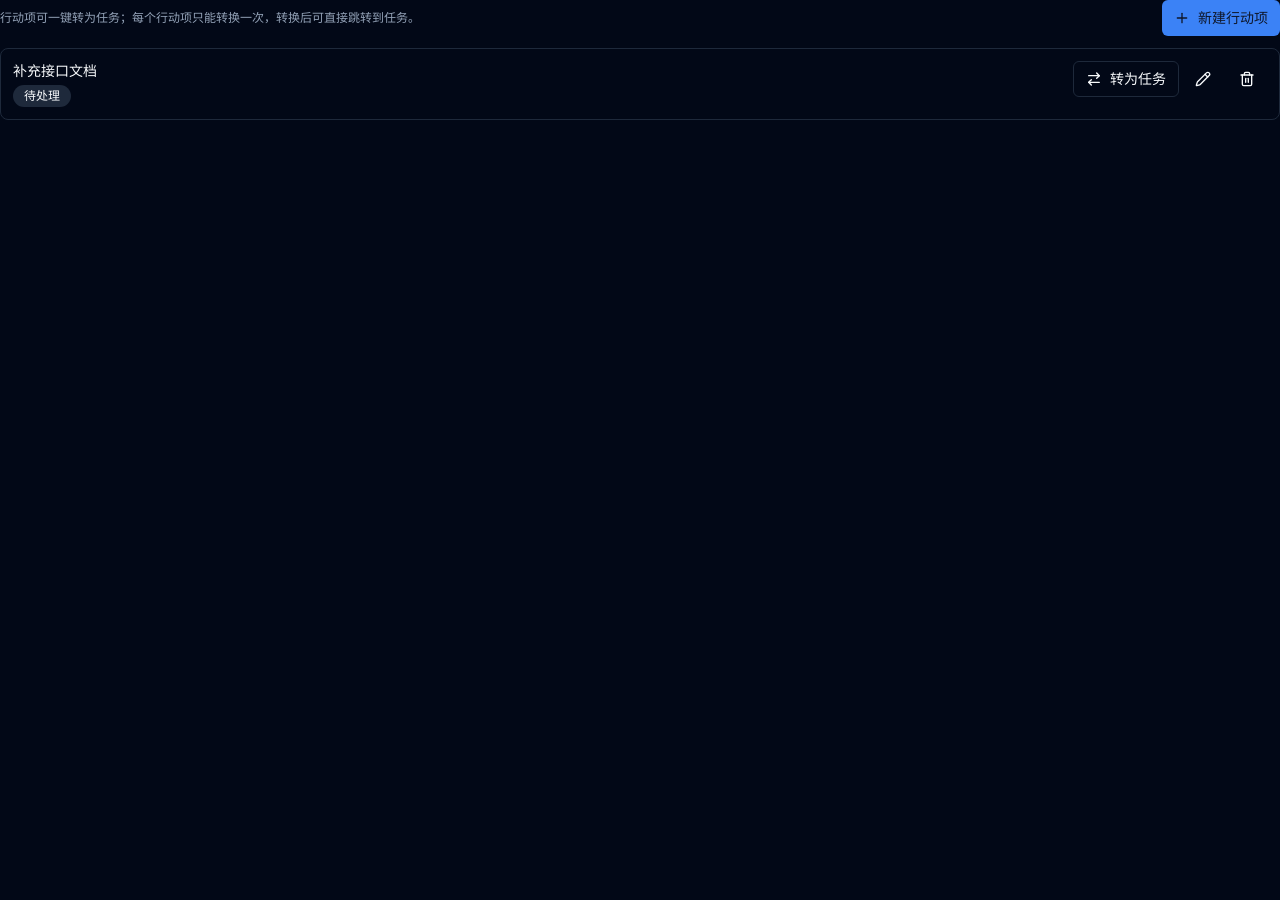
Test: ActionItemSection › cancelling the delete confirmation deletes nothing
Click the button named "删除行动项：补充接口文档" at x=1247, y=79, box [1227, 61, 1267, 97]
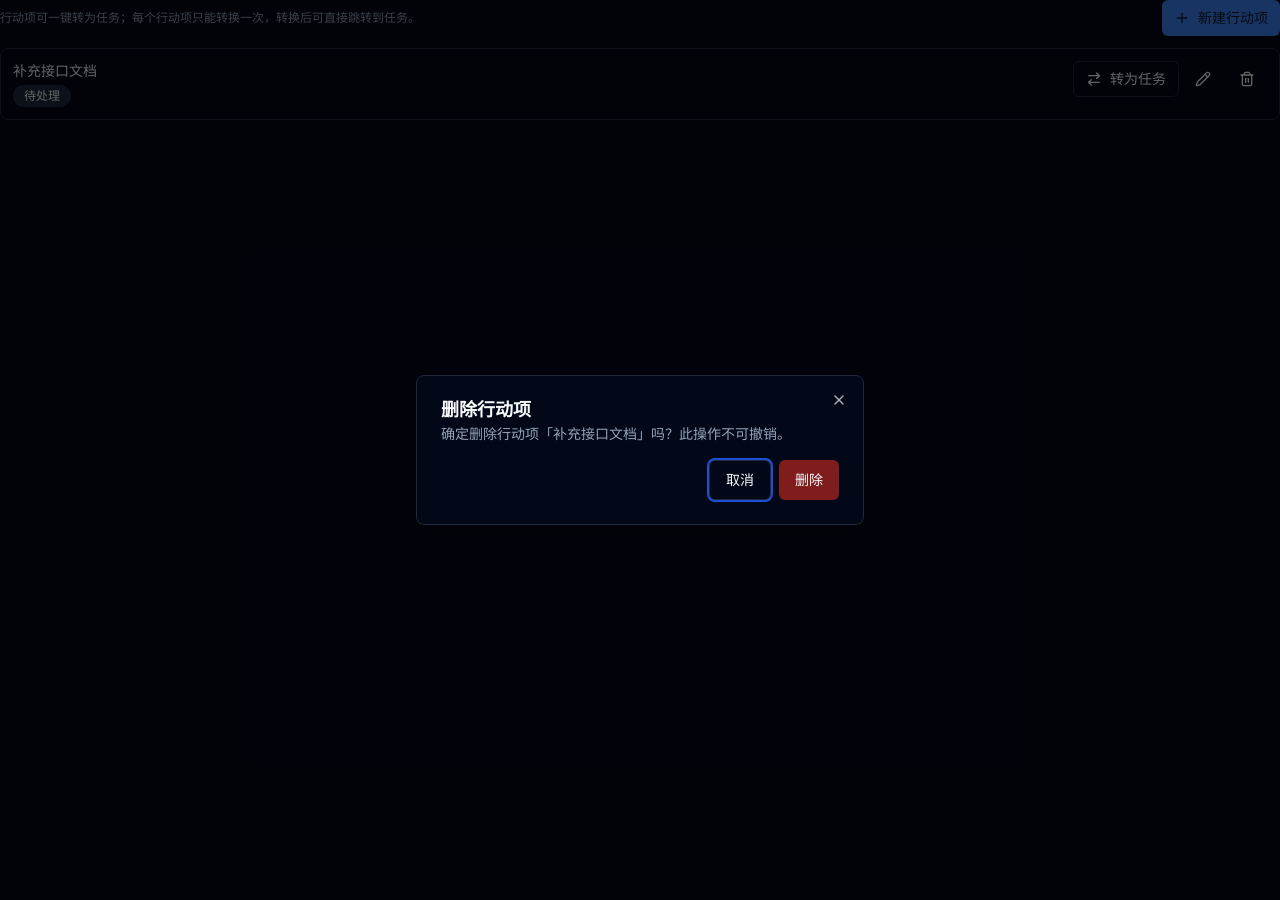
Expected: the dialog is shown, [416, 375, 864, 525]
Click the button "取消" at x=740, y=480, box [709, 460, 771, 500]
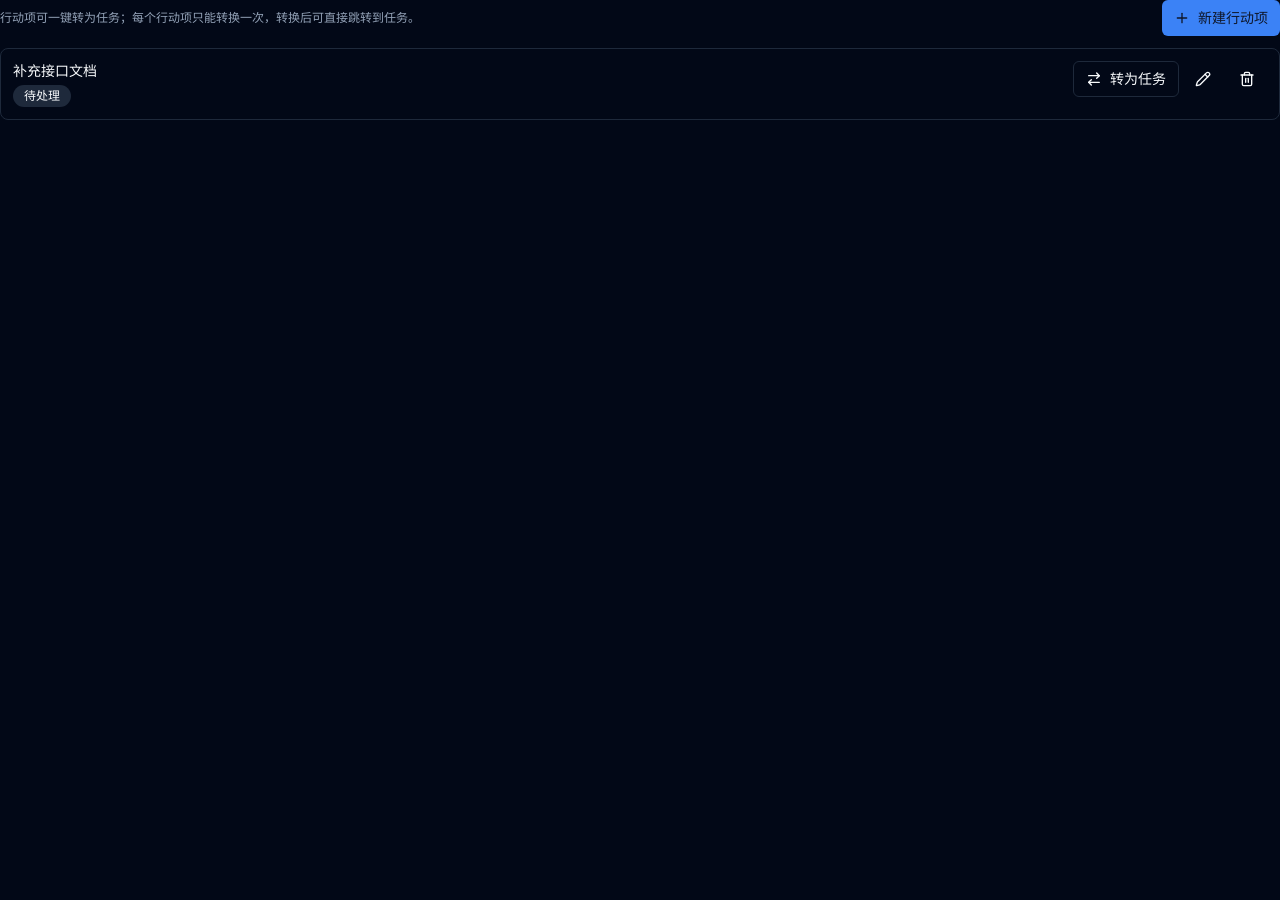
Expected: the dialog is gone
